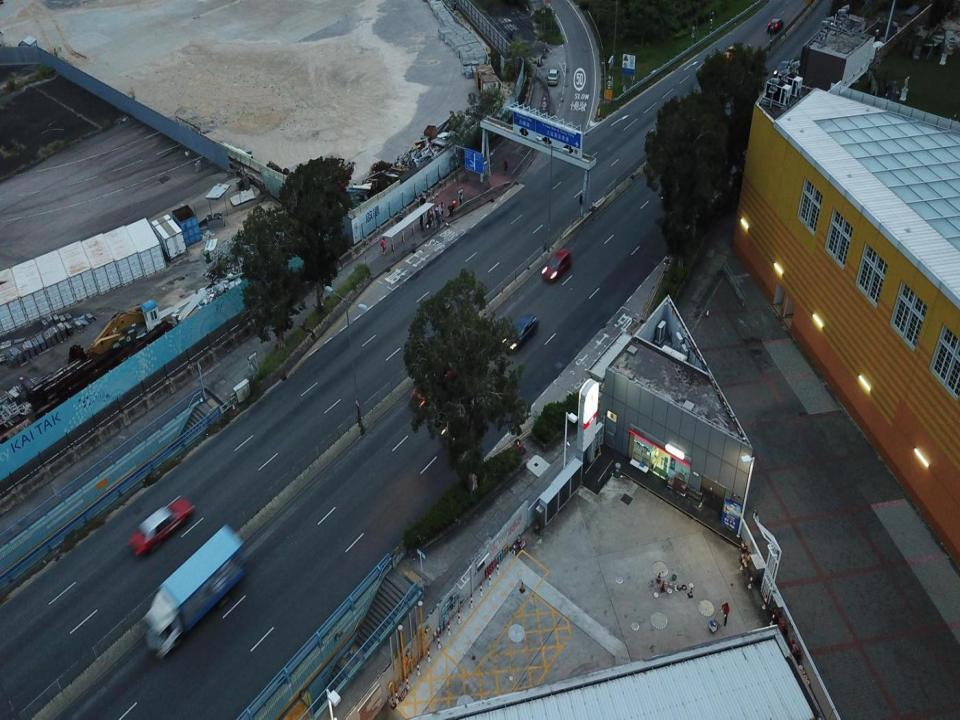bus: (137, 520, 252, 660)
car: (125, 499, 194, 556), (406, 362, 457, 409), (503, 314, 540, 354), (541, 248, 574, 284), (766, 15, 783, 36), (546, 66, 559, 87)
